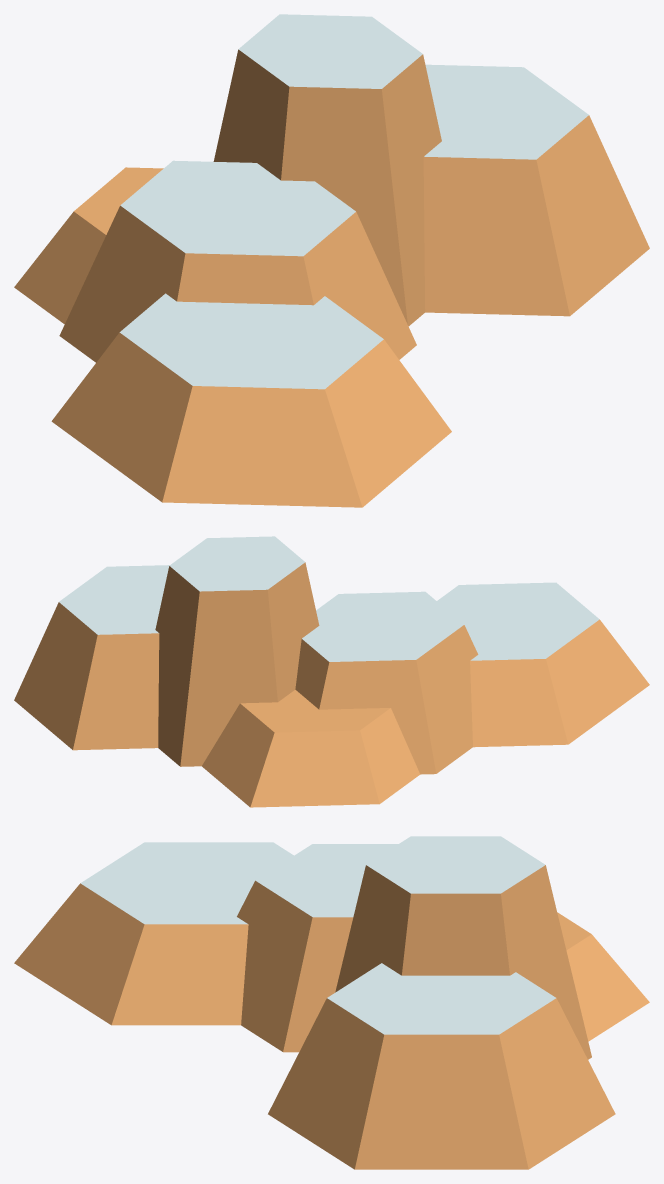
The model's file is snow_detail_dirt.dae.
3 renders of one model, top to bottom at view 1: azimuth 30°, elevation 25°; view 2: azimuth 150°, elevation 25°; view 3: azimuth 270°, elevation 25°, orthographic. The views are drawn at different scales.
Visible parts, largest first — view 1: snow_detail_dirt; view 2: snow_detail_dirt; view 3: snow_detail_dirt.
Part boxes in pixels (<box>): snow_detail_dirt: <box>14,14,649,507</box>; snow_detail_dirt: <box>14,536,649,807</box>; snow_detail_dirt: <box>14,836,649,1169</box>.
Bounding box in the file's own units: 0.6 × 0.2003 × 0.6.
